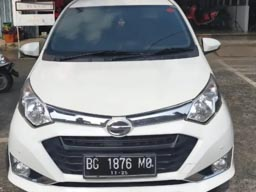plat: (84, 155, 155, 168)
